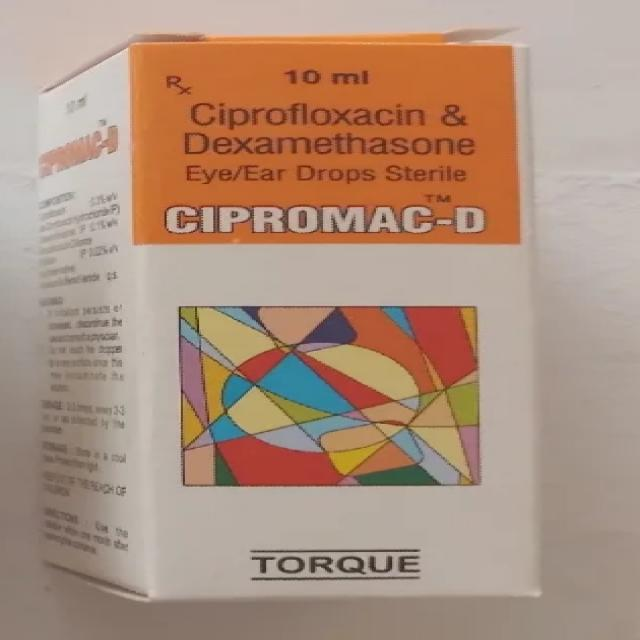drug-name: (164, 198, 492, 236)
